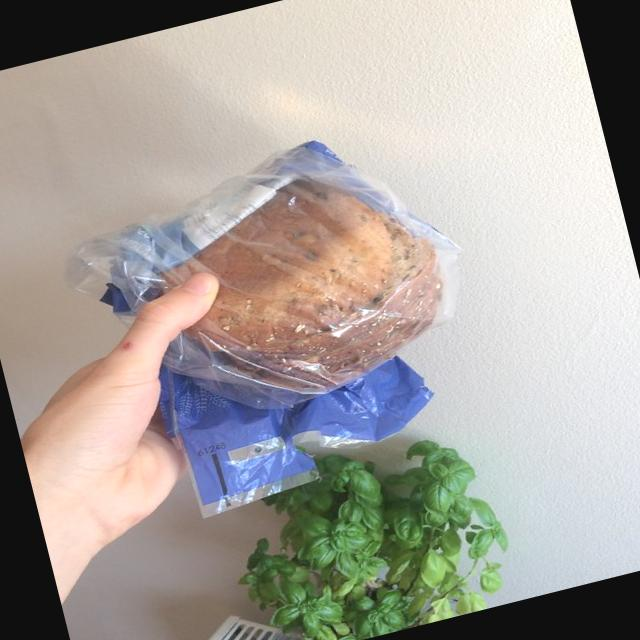Trash: (57, 121, 504, 539)
